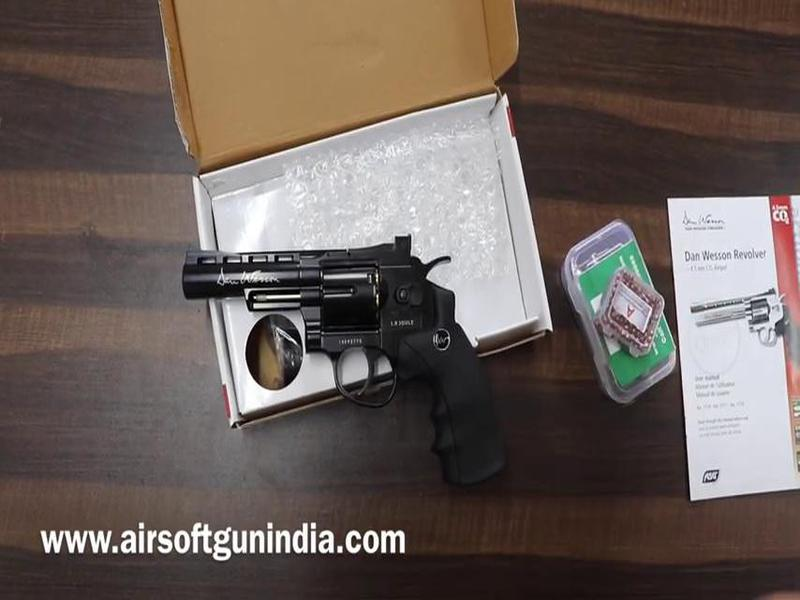Revolver: (166, 215, 527, 491)
